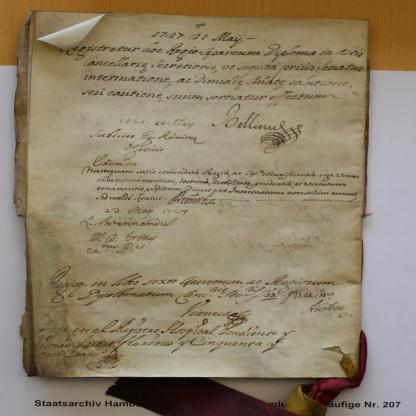book: (25, 16, 382, 399)
